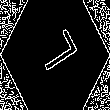L_SW: (29, 29, 81, 81)
